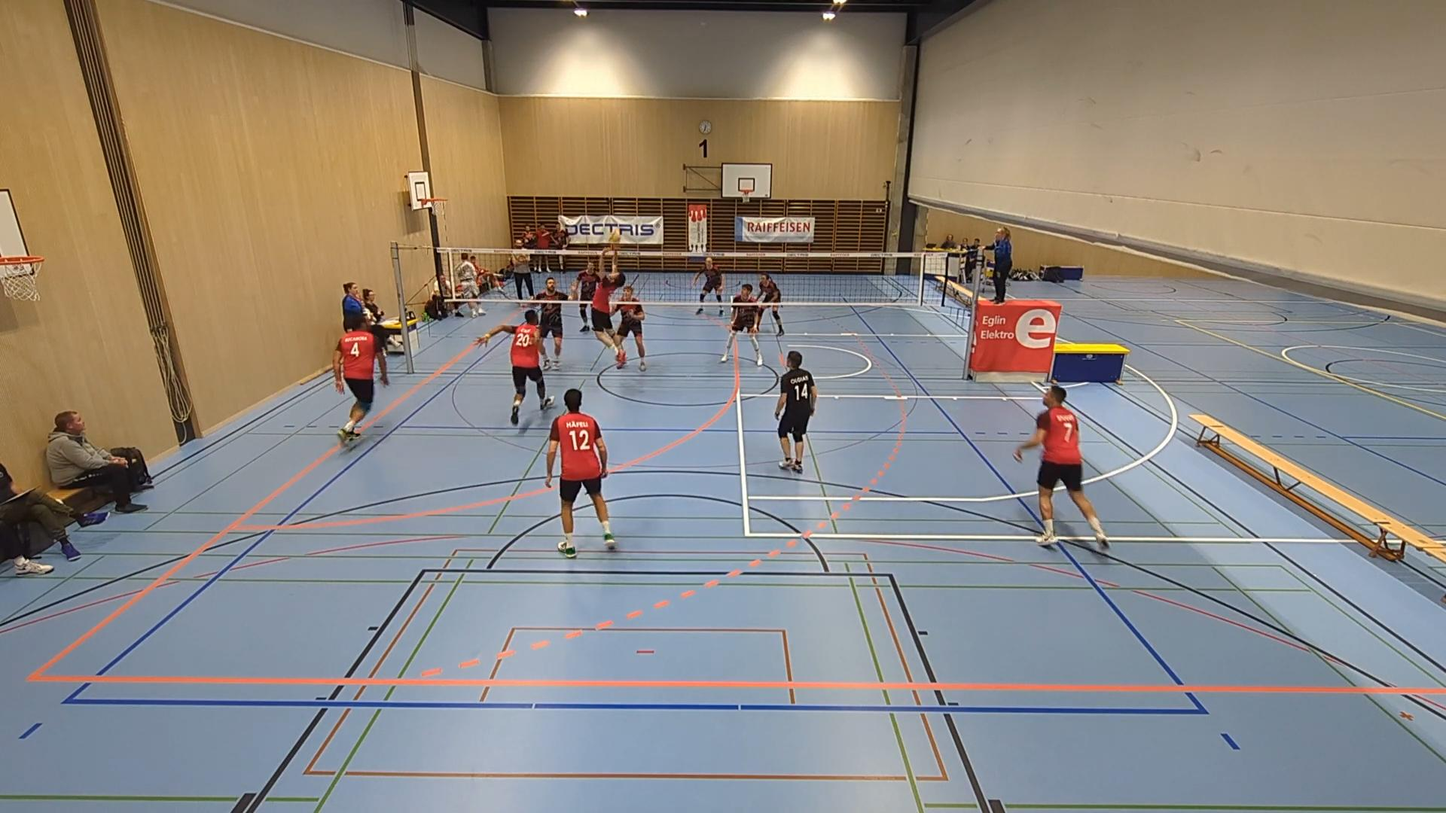alzata: (583, 249, 636, 367)
